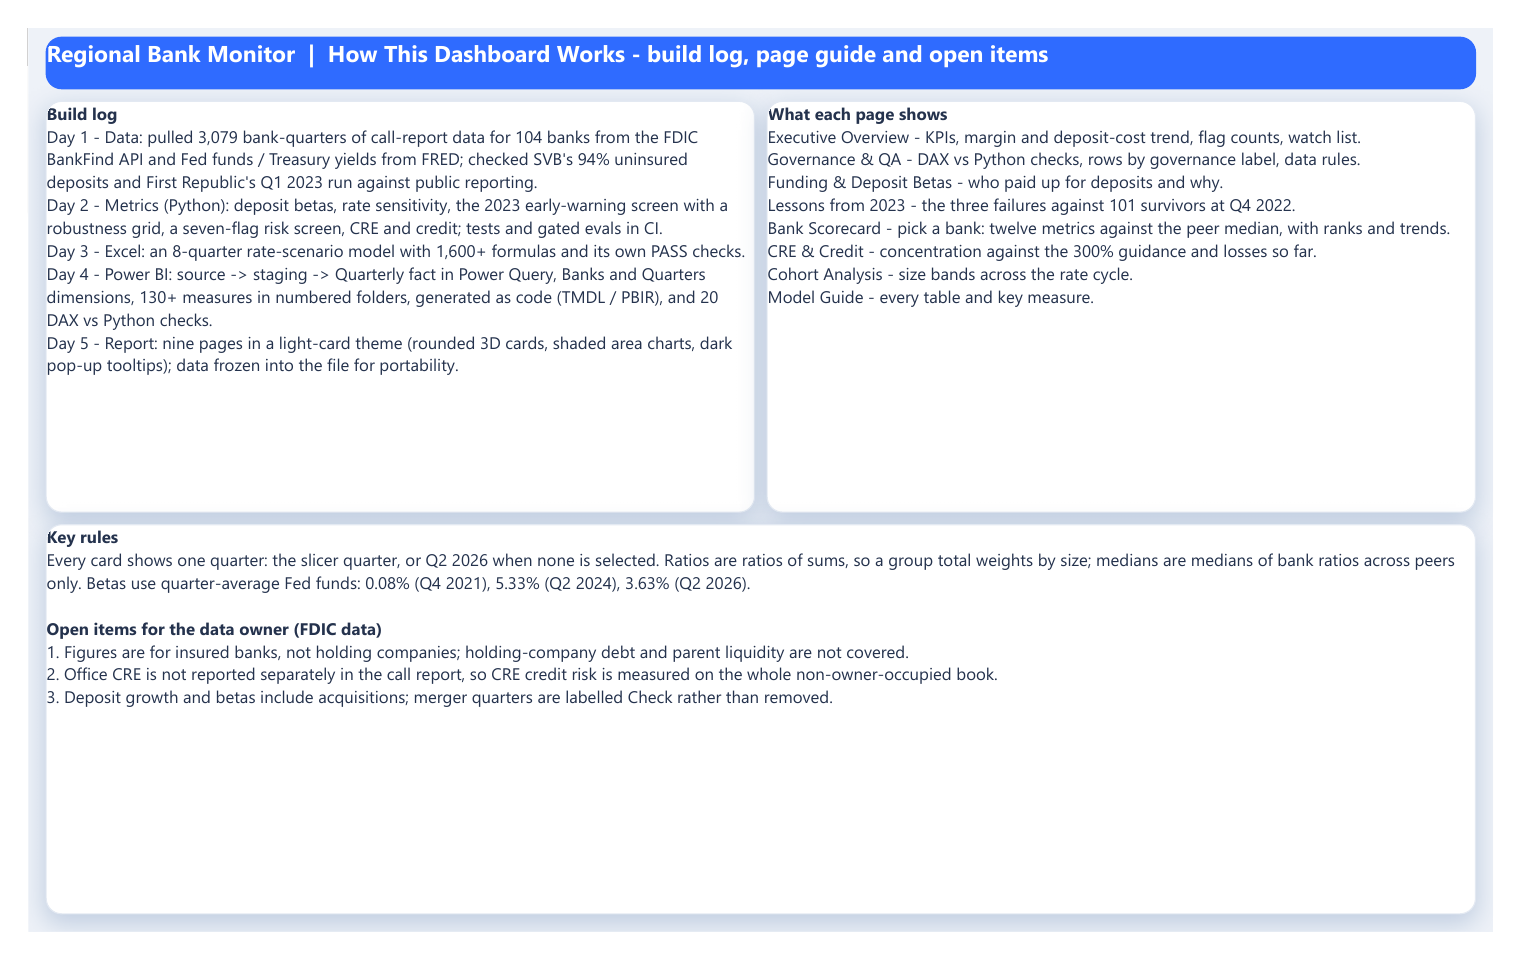

This screenshot's page, from the dashboard's own definition file:
{"tool":"powerbi","page":{"name":"How This Dashboard Works","canvas":[1280,790],"ordinal":7},"visuals":[{"type":"textbox","box":[15,8,1250,46],"z":1000},{"type":"textbox","box":[15,64,620,360],"z":2000},{"type":"textbox","box":[645,64,620,360],"z":3000},{"type":"textbox","box":[15,434,1250,341],"z":4000}]}

Visuals, with their boxes in screenshot pixels (x1, y1, x2, y2), scaled from the page's 1280x790 canvas onto the 1522x960 screenshot:
textbox: region(18, 10, 1504, 66)
textbox: region(18, 78, 755, 515)
textbox: region(767, 78, 1504, 515)
textbox: region(18, 527, 1504, 942)
